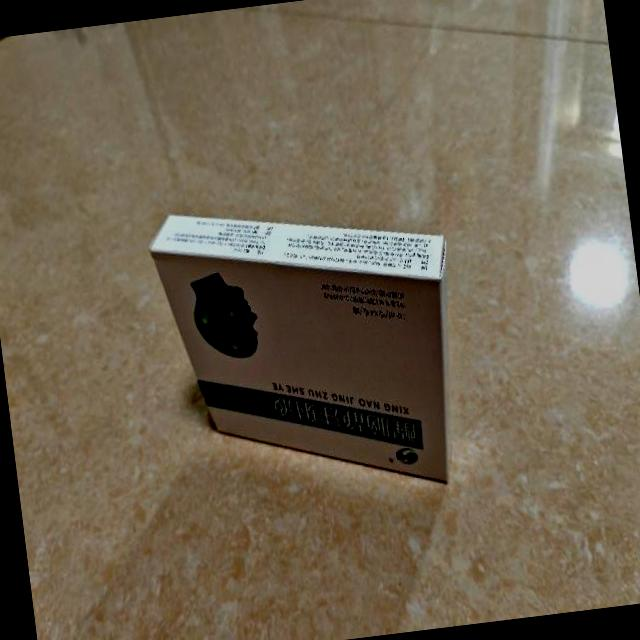box: (148, 182, 475, 518)
